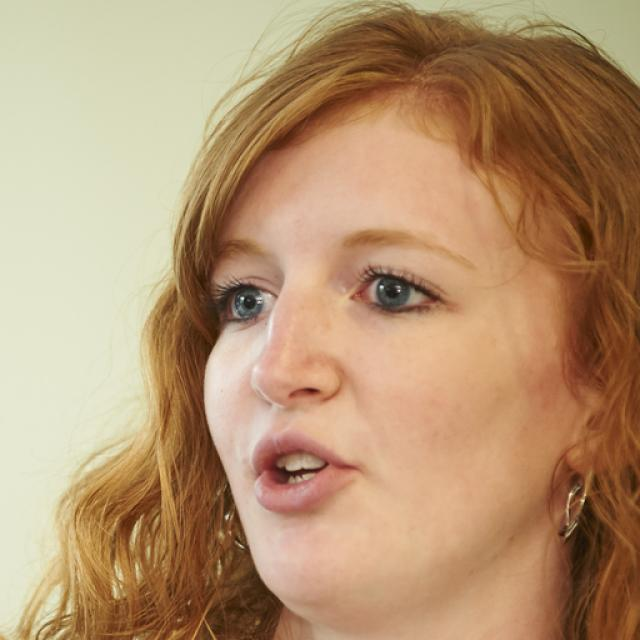surprise: (201, 90, 574, 616)
